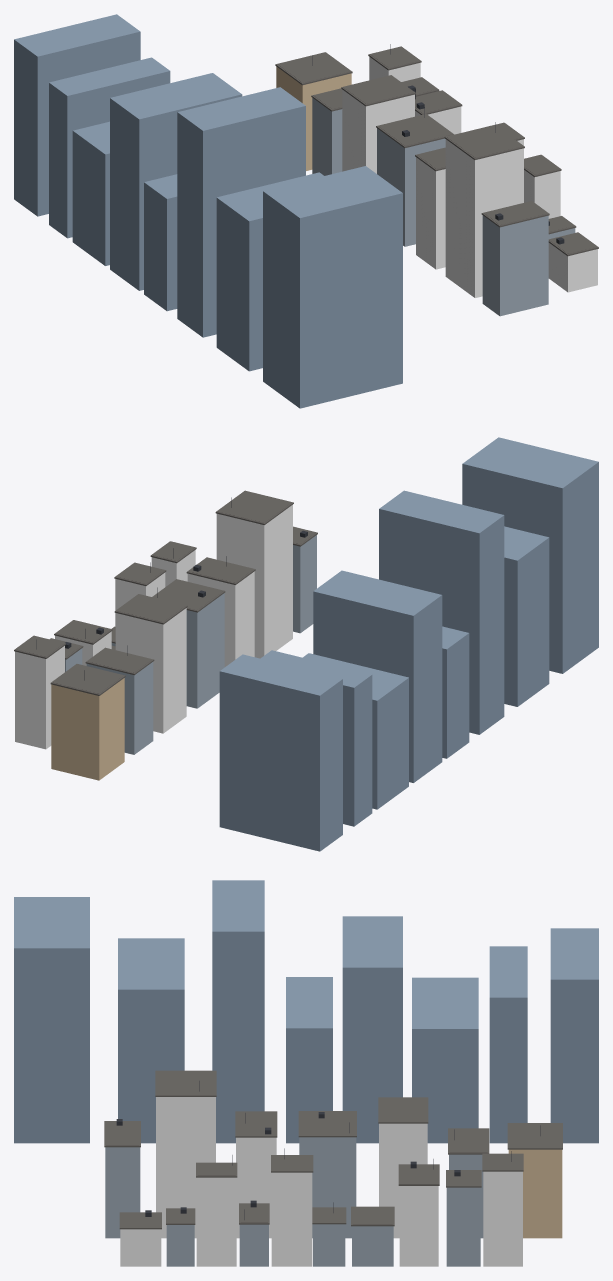
Rendered from RmSkyline.fbx.
3 views of the same model, one above another, from view 1: azimuth 30°, elevation 25°; view 2: azimuth 150°, elevation 25°; view 3: azimuth 270°, elevation 25° (orthographic). The views are drawn at different scales.
Visible parts, largest first — view 1: Distant, Blocks; view 2: Distant, Blocks; view 3: Distant, Blocks.
Boxes of the visible parts, <box> form: Distant: <box>14,14,402,408</box>; Blocks: <box>275,44,598,316</box>; Distant: <box>219,437,598,851</box>; Blocks: <box>14,490,317,780</box>; Distant: <box>14,880,598,1143</box>; Blocks: <box>104,1070,562,1266</box>.
Size of the model in its own units: 136 by 76.78 by 192.
